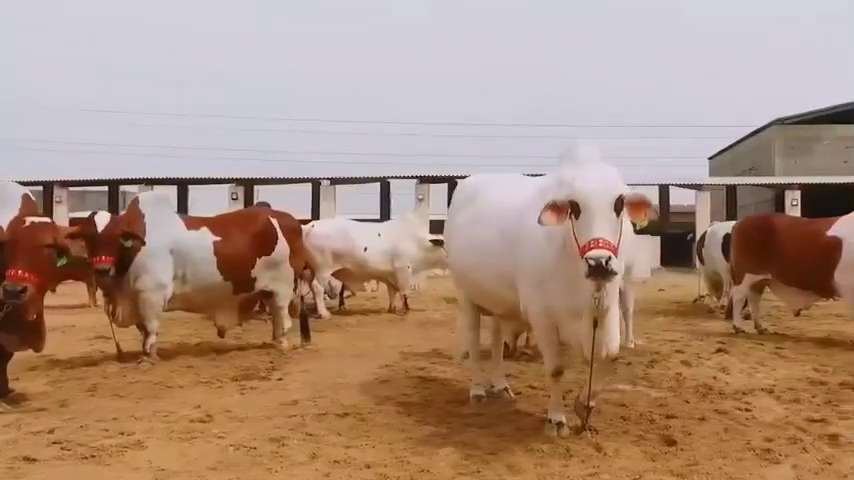bo: (446, 138, 651, 450), (76, 191, 313, 370), (725, 197, 854, 350), (298, 194, 448, 325), (1, 174, 78, 415), (687, 202, 738, 311)
